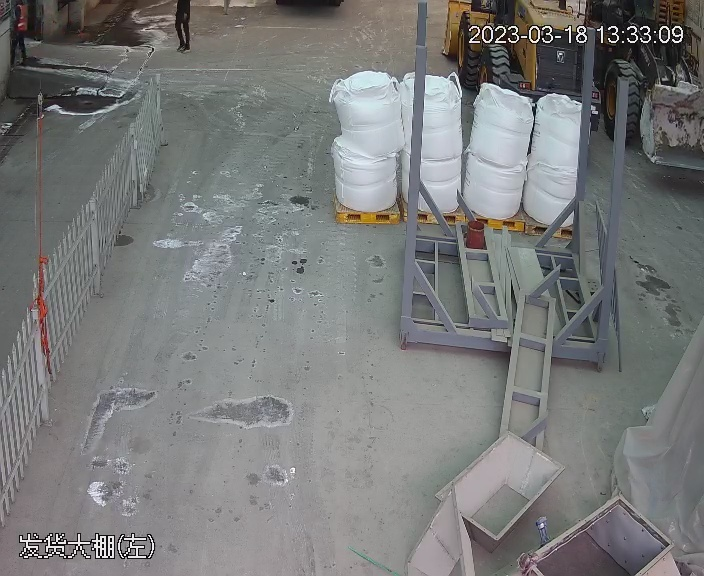people: (12, 1, 33, 68), (173, 1, 194, 52)
